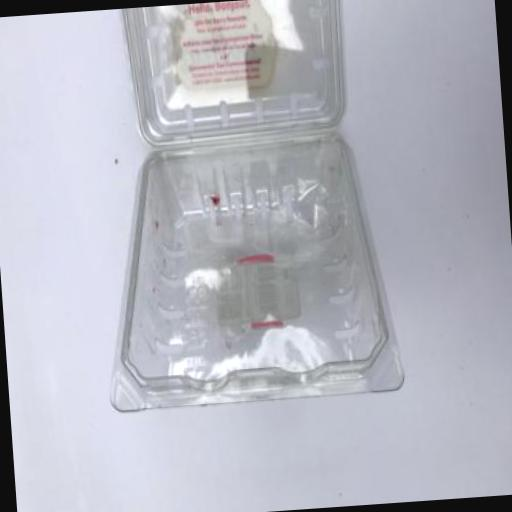plastic: (82, 0, 405, 410), (92, 130, 406, 410), (118, 0, 350, 145)
